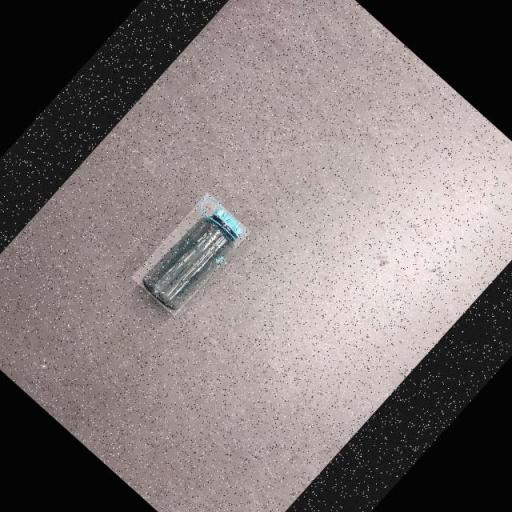bottle: (130, 193, 250, 317)
